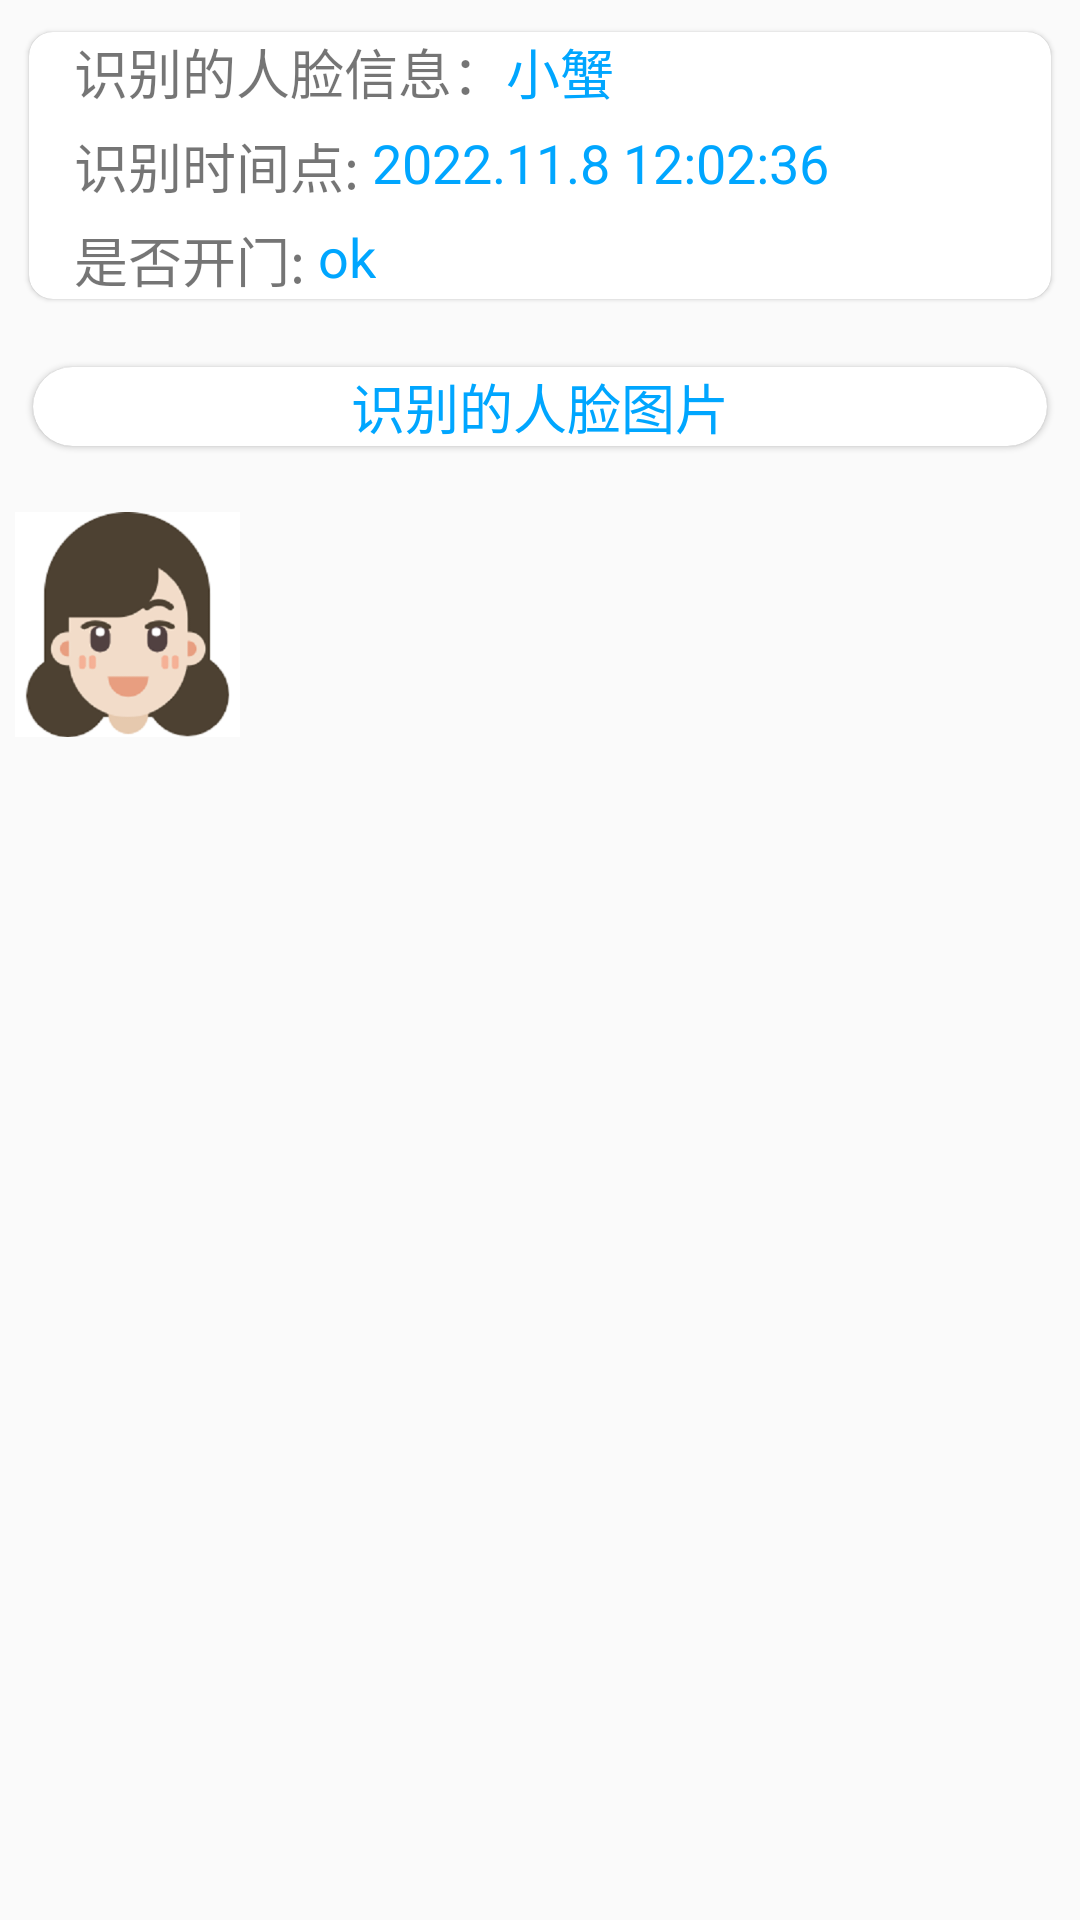

Where icons sit on this 1080 × 1920 app screen, as (x1, y1, x2, y2):
user woman: (26, 512, 230, 737)
